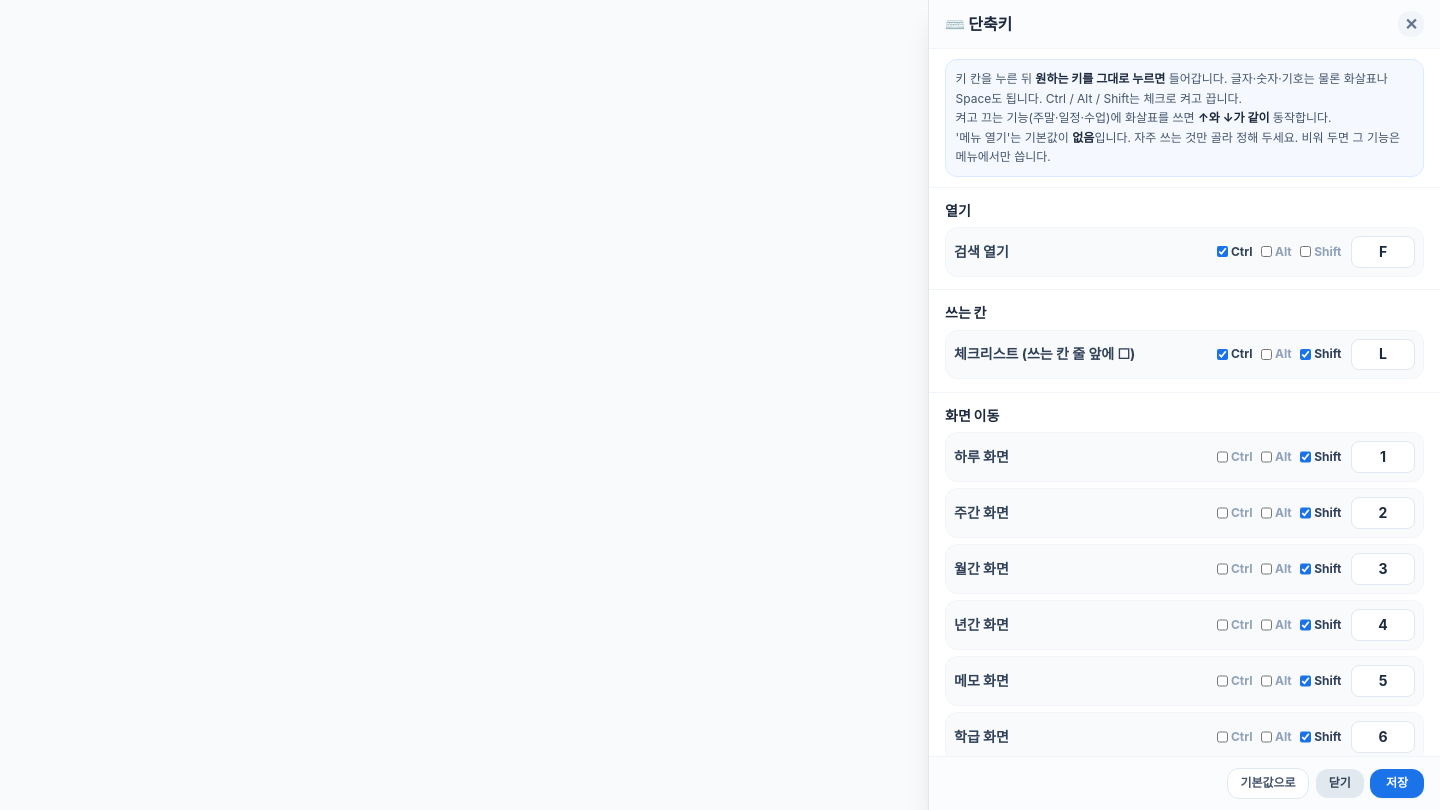
단축키 팝업 - 저장 › 저장해도 창이 닫히지 않는다
Click the button "저장" at (1397, 783), box [1370,769,1424,798]
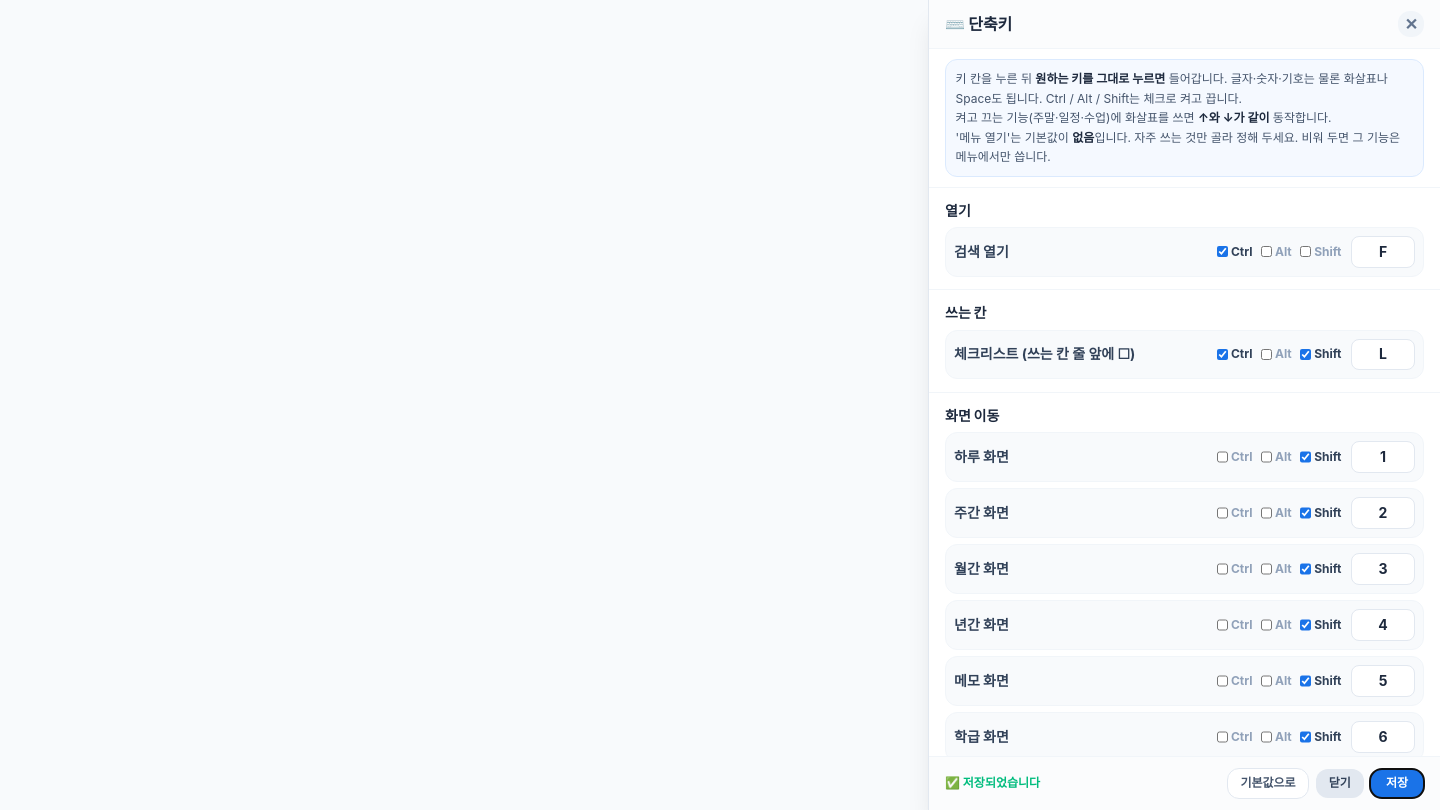
Now the text "✅ 저장되었습니다" is shown, box [945,775,1040,791]
